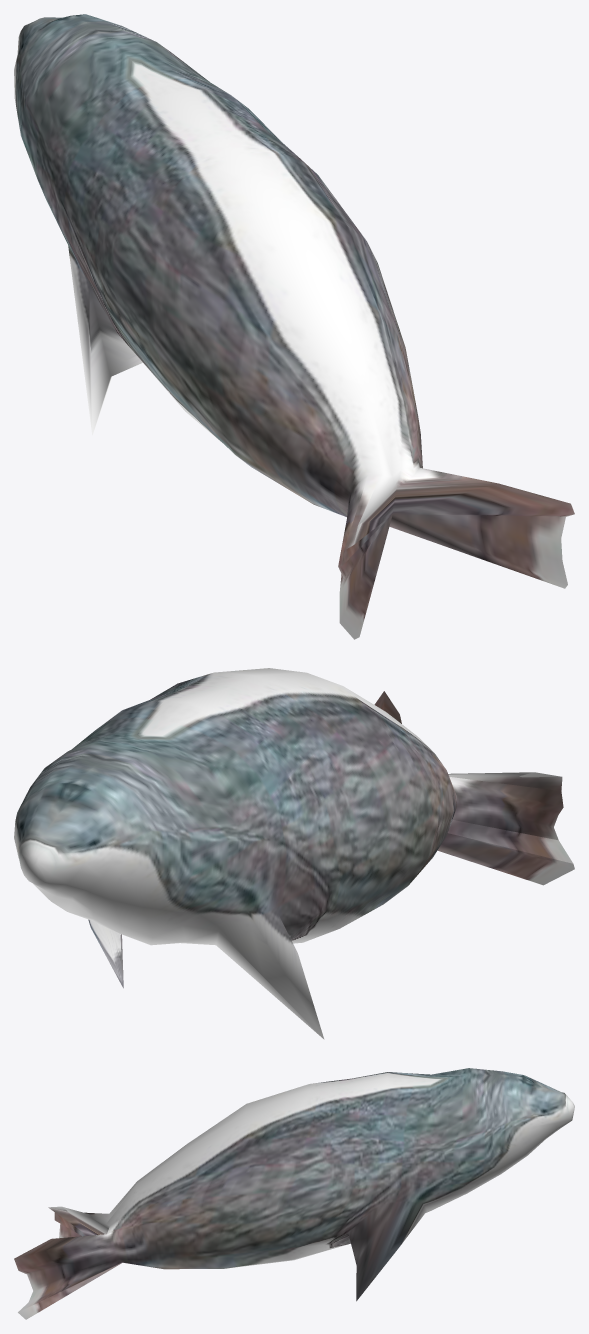
Rendered from Seal_B.fbx.
3 views of the same model, one above another, from view 1: azimuth 30°, elevation 25°; view 2: azimuth 150°, elevation 25°; view 3: azimuth 270°, elevation 25° (orthographic). The views are drawn at different scales.
Visible parts, largest first — view 1: pSphere2; view 2: pSphere2; view 3: pSphere2.
Boxes of the visible parts, x1,y1,x2,y2 form: pSphere2: (14, 14, 574, 639); pSphere2: (14, 668, 574, 1039); pSphere2: (14, 1068, 574, 1319).
Size of the model in its own units: 1.17 by 1.71 by 3.89.
1 material, 1 textured.
